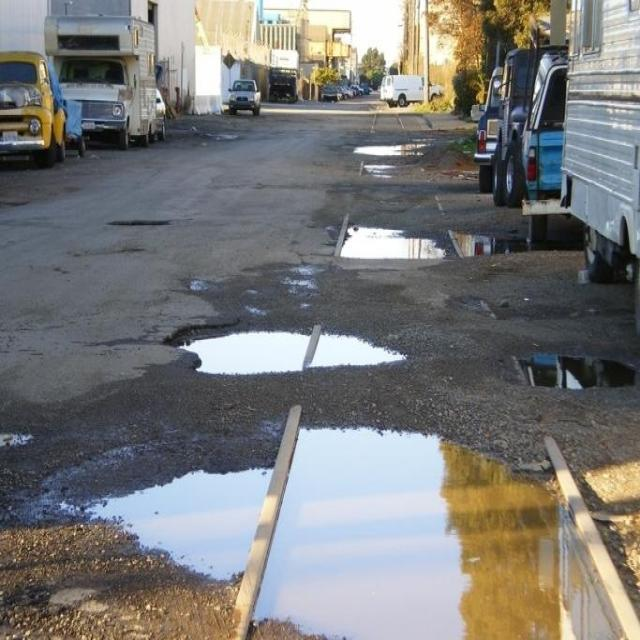pothole: (79, 413, 597, 640), (150, 311, 427, 386), (497, 341, 640, 409), (455, 213, 581, 288), (326, 215, 446, 278), (330, 128, 452, 173)
